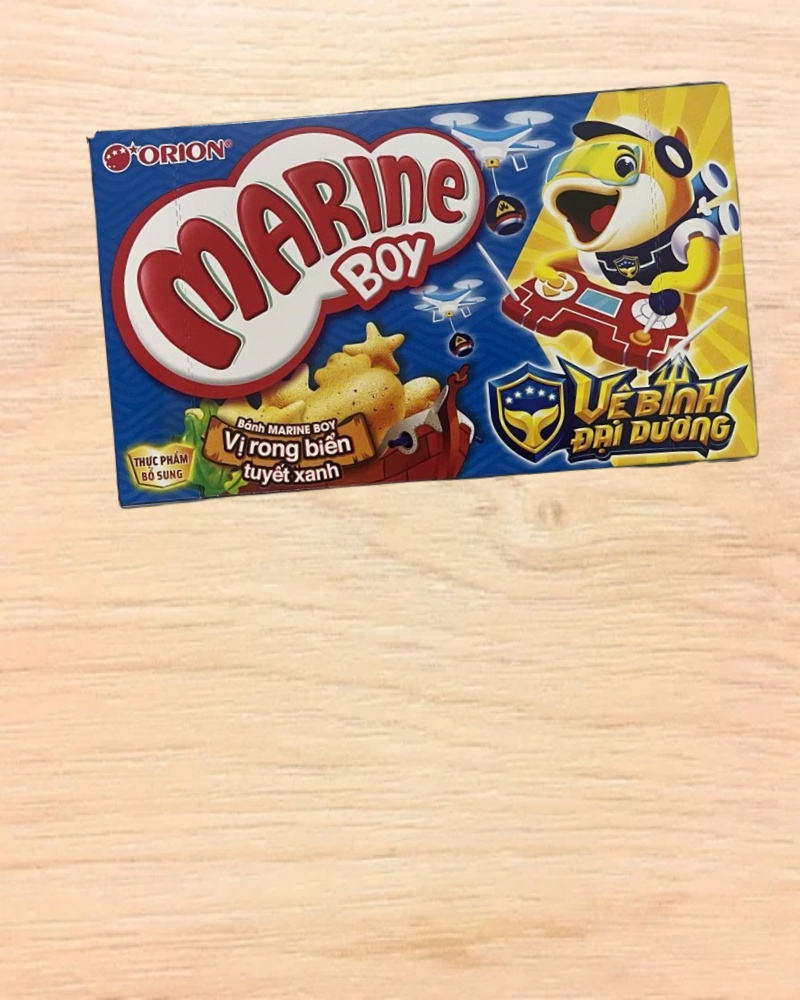Marine: (89, 77, 763, 514)
